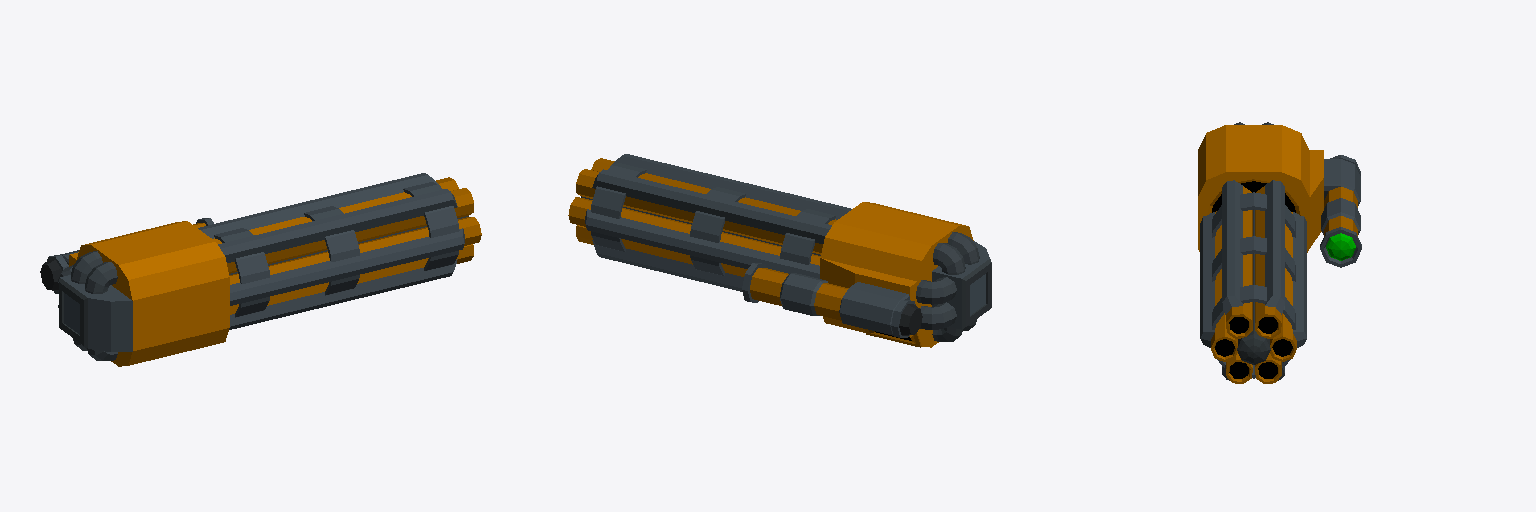
3 renders of one model, left to right at view 1: azimuth 30°, elevation 25°; view 2: azimuth 150°, elevation 25°; view 3: azimuth 270°, elevation 25°, orthographic.
Parts seen in each view (by area): view 1: MiniGun_L_Trackless_Engine.001_Cylinder.007; view 2: MiniGun_L_Trackless_Engine.001_Cylinder.007; view 3: MiniGun_L_Trackless_Engine.001_Cylinder.007.
Part boxes in pixels (x1,y1,x2,y2): MiniGun_L_Trackless_Engine.001_Cylinder.007: (40, 173, 481, 366); MiniGun_L_Trackless_Engine.001_Cylinder.007: (568, 154, 991, 347); MiniGun_L_Trackless_Engine.001_Cylinder.007: (1198, 122, 1361, 383).
Size of the model in its own units: 2.59 by 0.6353 by 0.932.
Materials: 1 (1 with a texture image).